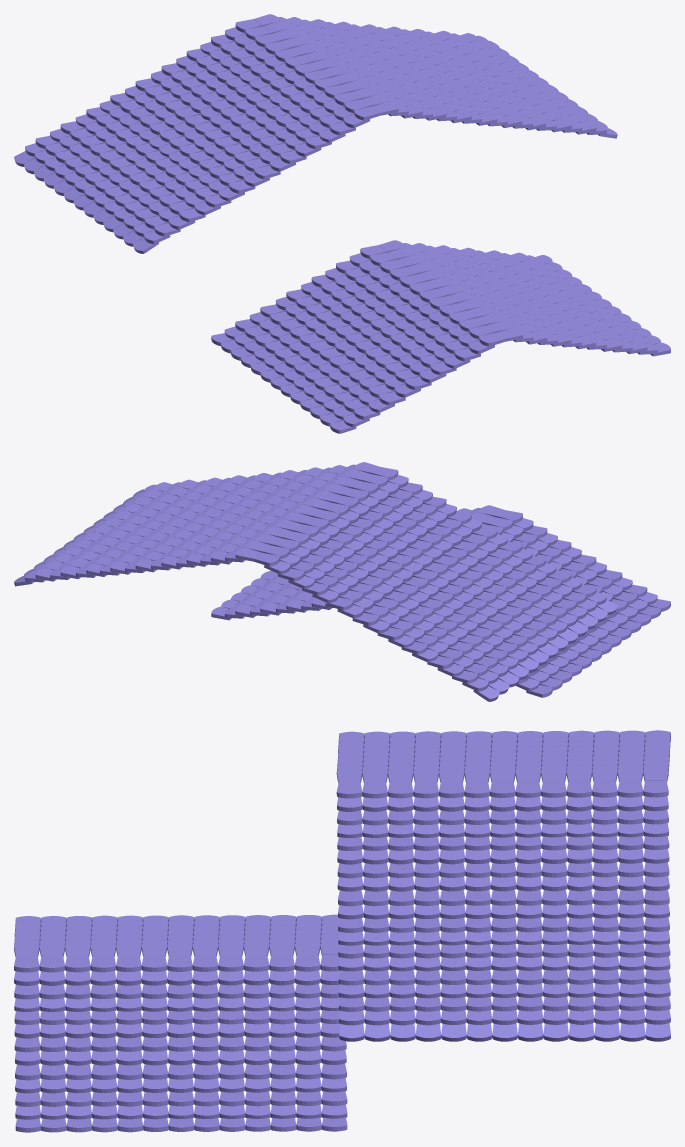
Rendered from House_roof.glb.
3 views of the same model, one above another, from view 1: azimuth 30°, elevation 25°; view 2: azimuth 150°, elevation 25°; view 3: azimuth 270°, elevation 25° (orthographic). The views are drawn at different scales.
Visible parts, largest first — view 1: House_roof; view 2: House_roof; view 3: House_roof.
Boxes of the visible parts, x1,y1,x2,y2 form: House_roof: (14, 14, 670, 433); House_roof: (14, 462, 670, 701); House_roof: (14, 730, 670, 1132).
Bounding box in the file's own units: 55.42 × 20.99 × 50.77.
